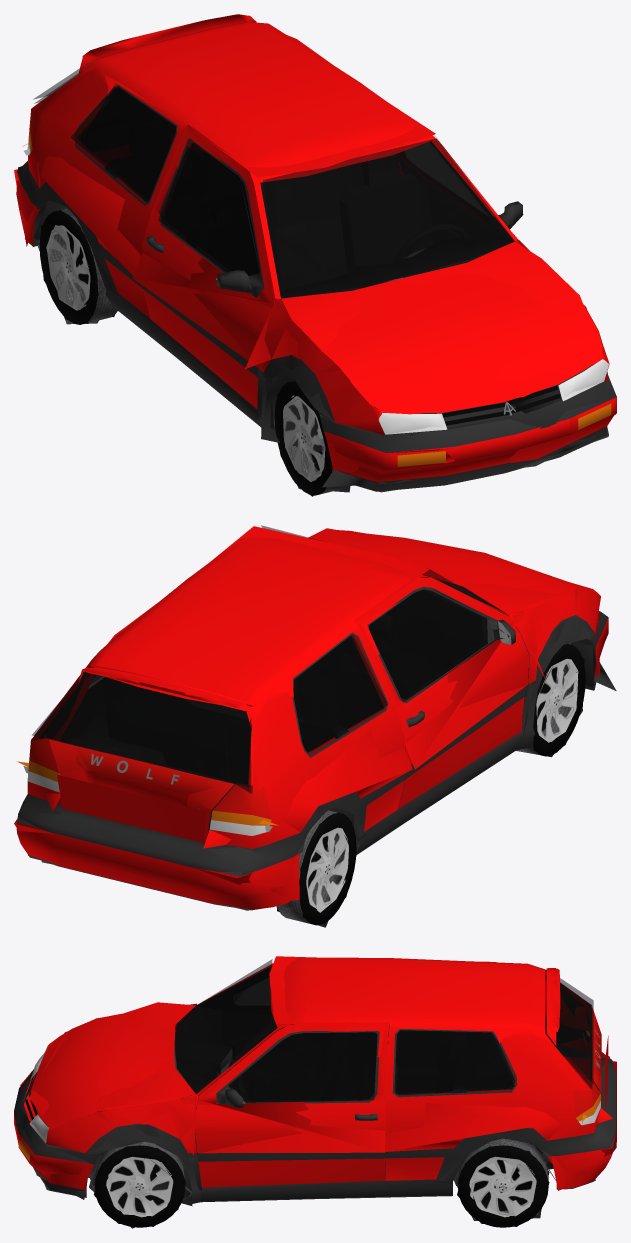
File: hatchback.glb
3 renders of one model, top to bottom at view 1: azimuth 30°, elevation 25°; view 2: azimuth 150°, elevation 25°; view 3: azimuth 270°, elevation 25°, orthographic. The views are drawn at different scales.
Parts seen in each view (by area): view 1: romp, ver, wiel_ar, wiel_vr; view 2: romp, ver, wiel_ar, wiel_vr; view 3: romp, ver, wiel_al, wiel_vl.
Part boxes in pixels (<box>): romp: <box>16,14,616,491</box>; ver: <box>14,15,616,496</box>; wiel_ar: <box>39,208,117,324</box>; wiel_vr: <box>274,381,334,495</box>; romp: <box>16,530,608,910</box>; ver: <box>14,525,616,927</box>; wiel_ar: <box>277,810,356,925</box>; wiel_vr: <box>520,644,585,756</box>; romp: <box>14,957,616,1203</box>; ver: <box>15,956,616,1228</box>; wiel_al: <box>457,1139,548,1227</box>; wiel_vl: <box>94,1141,185,1227</box>.
Size of the model in its own units: 1.85 by 1.44 by 4.02.
8 materials, 5 textured.
